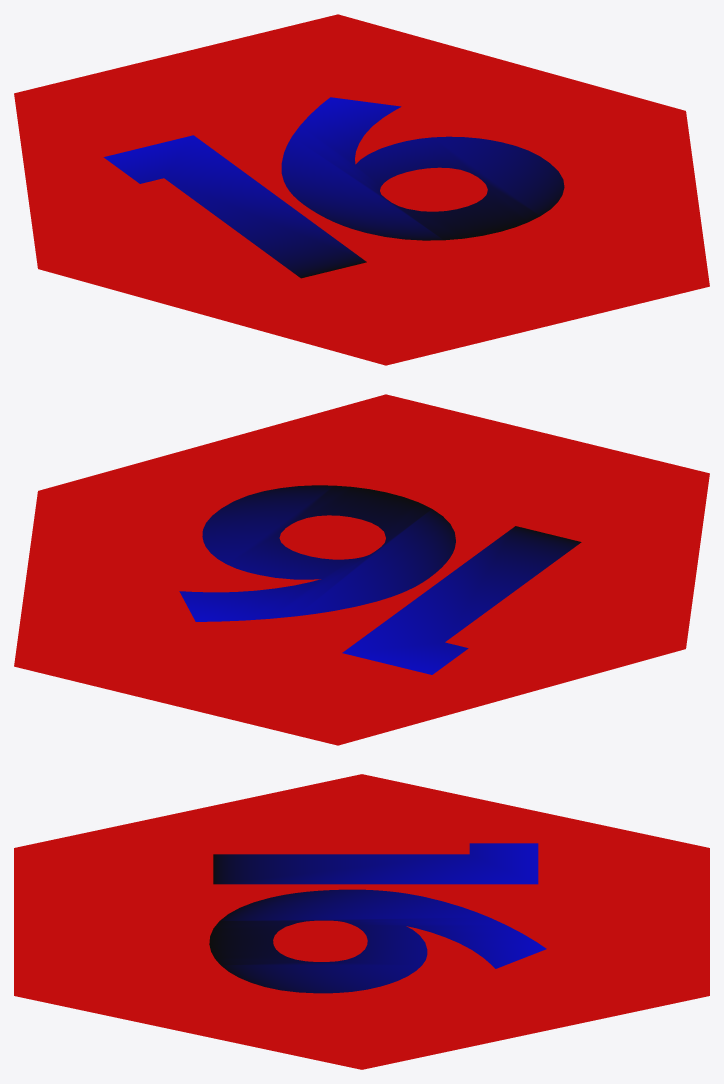
The model's file is SM_Number_16.fbx.
3 renders of one model, top to bottom at view 1: azimuth 30°, elevation 25°; view 2: azimuth 150°, elevation 25°; view 3: azimuth 270°, elevation 25°, orthographic. The views are drawn at different scales.
Visible parts, largest first — view 1: FBX_OUT; view 2: FBX_OUT; view 3: FBX_OUT.
Boxes of the visible parts, x1,y1,x2,y2 form: FBX_OUT: [14, 14, 709, 365]; FBX_OUT: [14, 394, 709, 745]; FBX_OUT: [14, 774, 709, 1069].
Bounding box in the file's own units: 50 × 0.2917 × 49.71.
